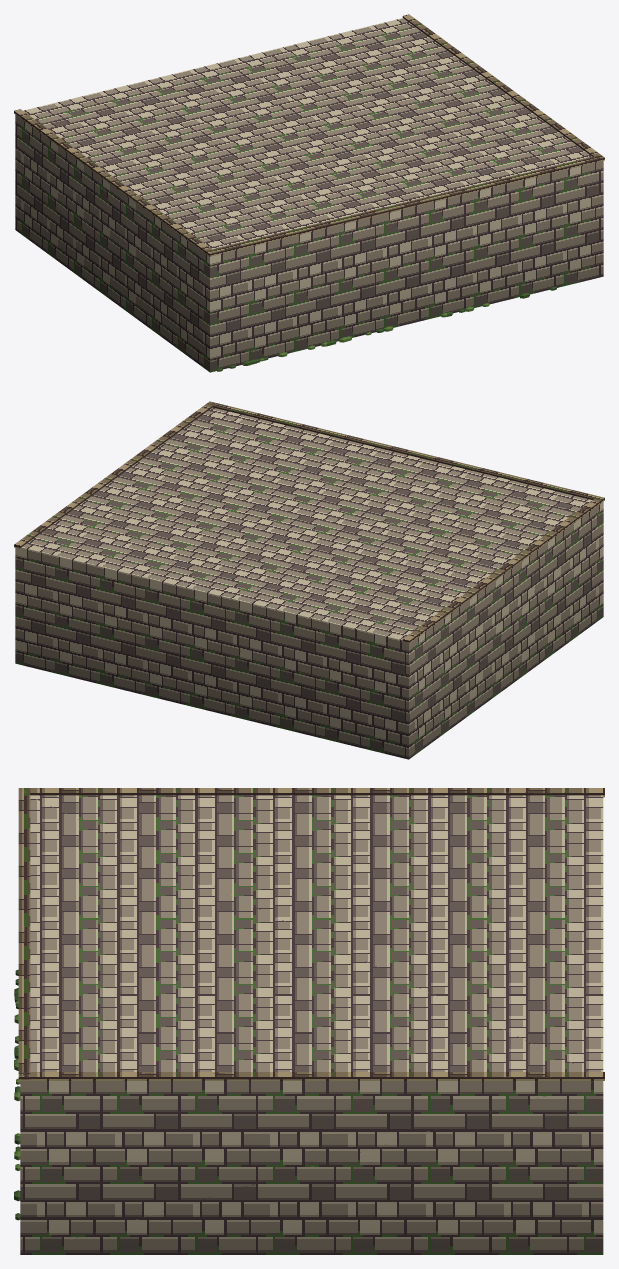
File: scene_wall_e8.glb
3 renders of one model, top to bottom at view 1: azimuth 30°, elevation 25°; view 2: azimuth 150°, elevation 25°; view 3: azimuth 270°, elevation 25°, orthographic. The views are drawn at different scales.
Visible parts, largest first — view 1: scene_wall_e8; view 2: scene_wall_e8; view 3: scene_wall_e8.
Boxes of the visible parts, x1=… form: scene_wall_e8: x1=14, y1=14, x2=604, y2=372; scene_wall_e8: x1=14, y1=401, x2=604, y2=759; scene_wall_e8: x1=14, y1=788, x2=604, y2=1254.
Bounding box in the file's own units: 21.1 × 6.17 × 18.24.
2 materials, 1 textured.
